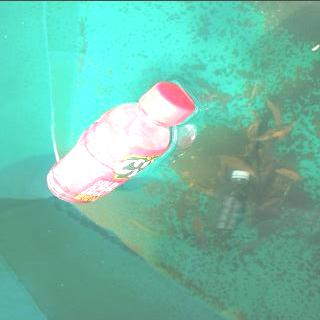bottle: (44, 80, 198, 204)
